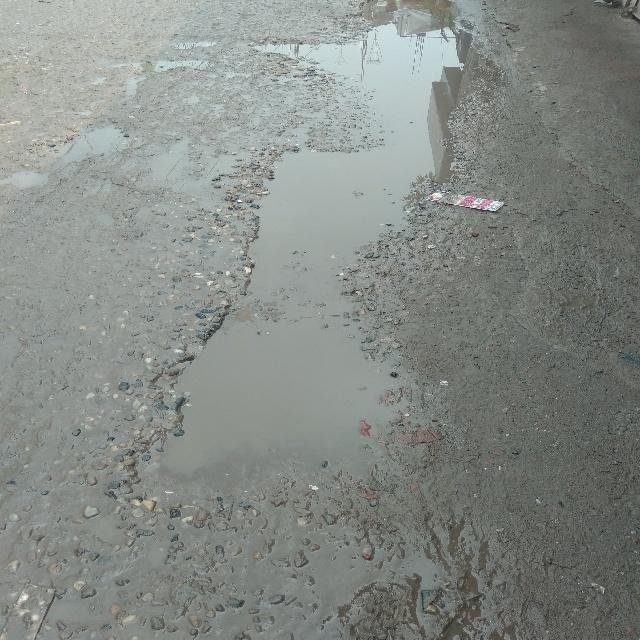Surface Erosion: (152, 23, 609, 640)
